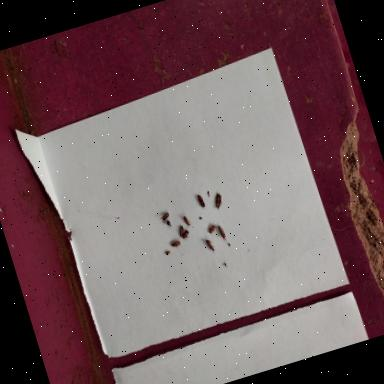pbw: (212, 191, 225, 210), (216, 223, 228, 242), (202, 236, 216, 252), (174, 224, 186, 238), (196, 193, 206, 208), (206, 222, 218, 234), (182, 214, 192, 228), (170, 238, 182, 248), (180, 228, 190, 240), (158, 212, 170, 221), (164, 248, 172, 254)
